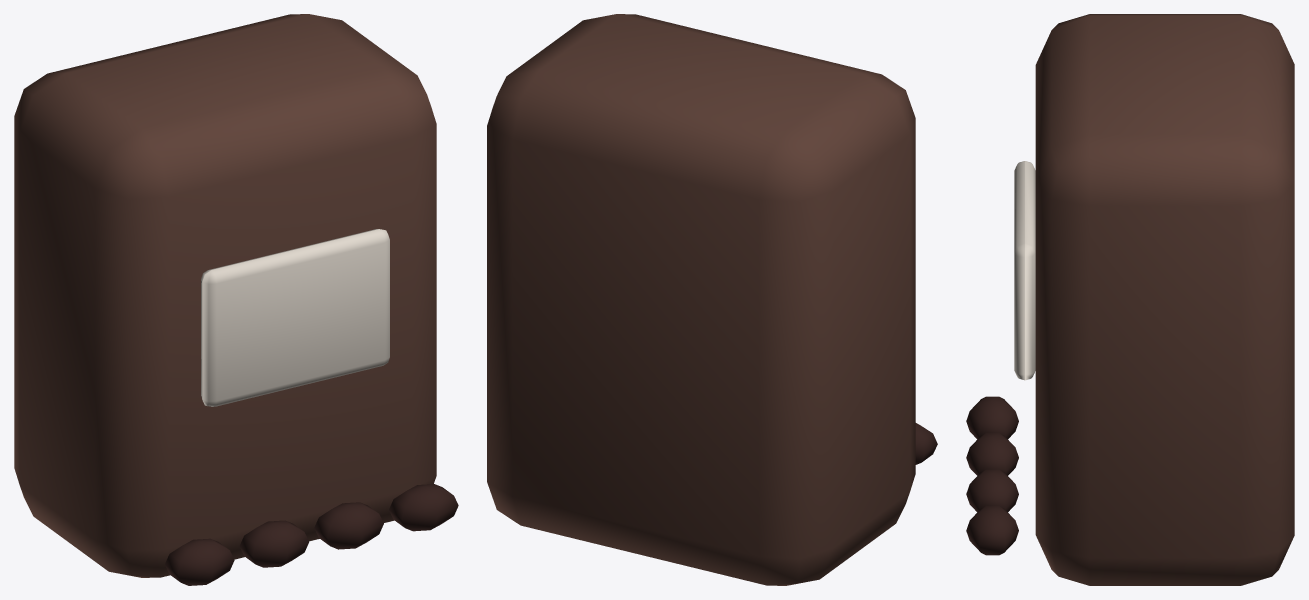
File: ing_beans.glb
3 views of the same model, side by side, from view 1: azimuth 30°, elevation 25°; view 2: azimuth 150°, elevation 25°; view 3: azimuth 270°, elevation 25° (orthographic).
Visible parts, largest first — view 1: ing_beans; view 2: ing_beans; view 3: ing_beans.
Boxes of the visible parts, box(x1,y1,x2,y2) form: ing_beans: box(14, 14, 458, 585); ing_beans: box(487, 14, 937, 585); ing_beans: box(966, 14, 1294, 585).
Size of the model in its own units: 0.36 by 0.46 by 0.3045.
